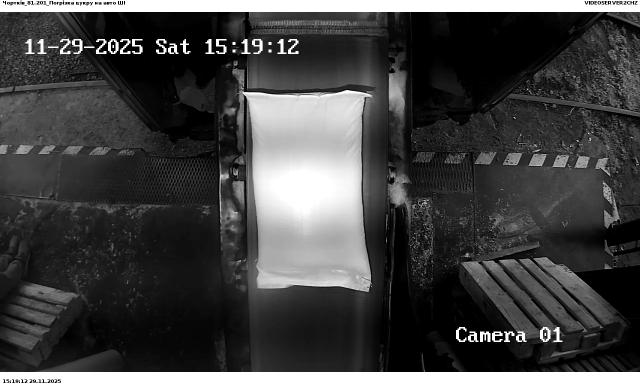bag: (243, 90, 373, 292)
